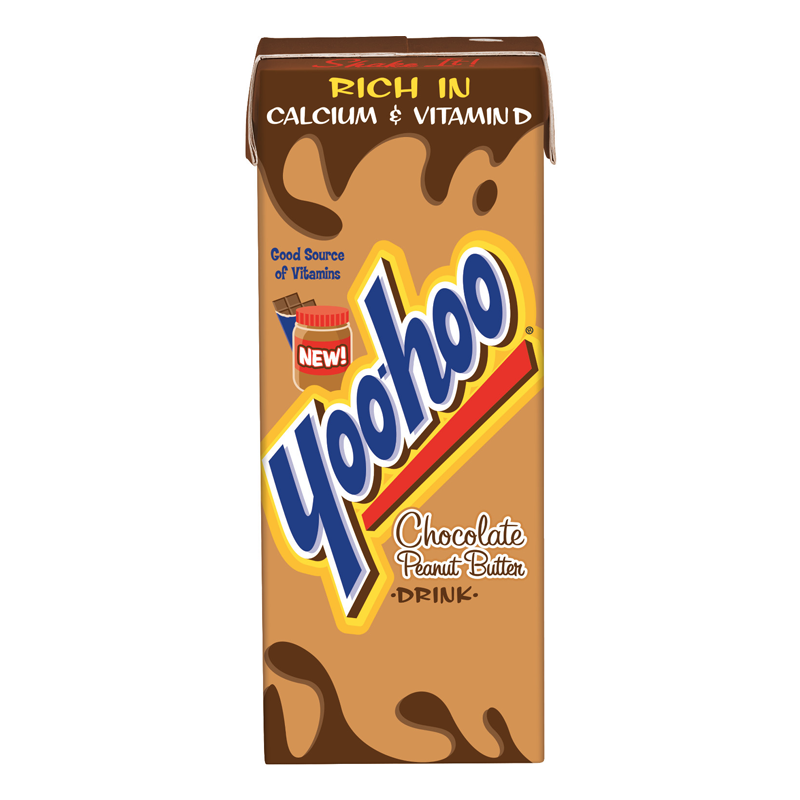carton: (218, 22, 584, 794)
